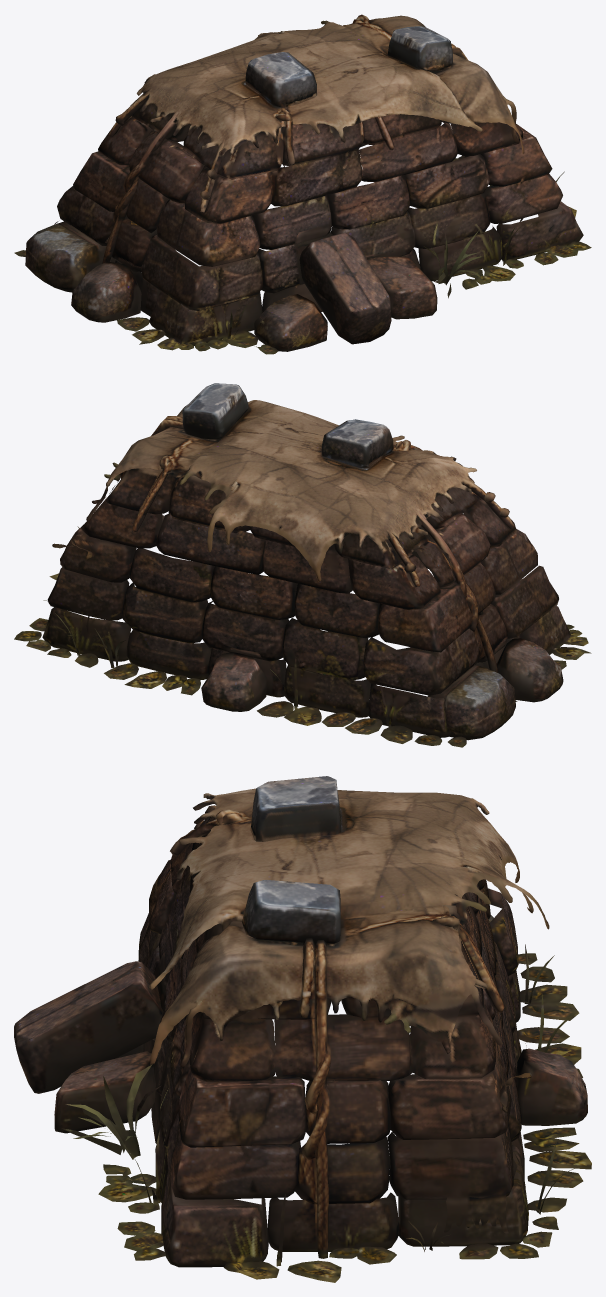
The model's file is act1_kit_v1_peat_stack.glb.
The picture shows the model from 3 angles, top to bottom: view 1: azimuth 30°, elevation 25°; view 2: azimuth 150°, elevation 25°; view 3: azimuth 270°, elevation 25°; orthographic projection. The views are drawn at different scales.
Visible parts, largest first — view 1: act1_kit_v1_peat_stack; view 2: act1_kit_v1_peat_stack; view 3: act1_kit_v1_peat_stack.
Part boxes in pixels (<box>): act1_kit_v1_peat_stack: <box>14,14,591,354</box>; act1_kit_v1_peat_stack: <box>14,383,591,747</box>; act1_kit_v1_peat_stack: <box>14,776,591,1282</box>.
Size of the model in its own units: 1 by 0.4139 by 0.7229.
1 material, 1 textured.
